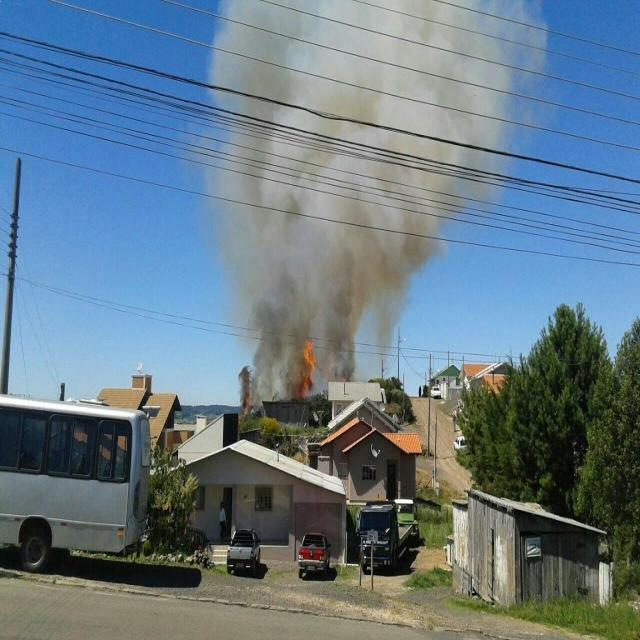Fire: (291, 339, 316, 404), (319, 356, 348, 394), (238, 368, 251, 418)
Smoke: (184, 1, 560, 252), (222, 257, 448, 302), (252, 305, 290, 408), (290, 304, 362, 336), (373, 305, 400, 364)
